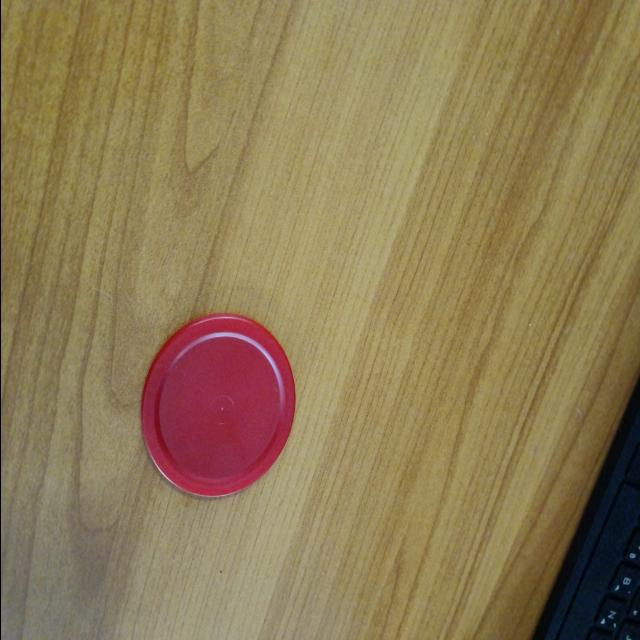chip: (139, 310, 297, 498)
